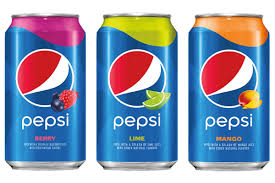Pepsi: (93, 10, 179, 174), (181, 13, 269, 172), (4, 10, 88, 173)
